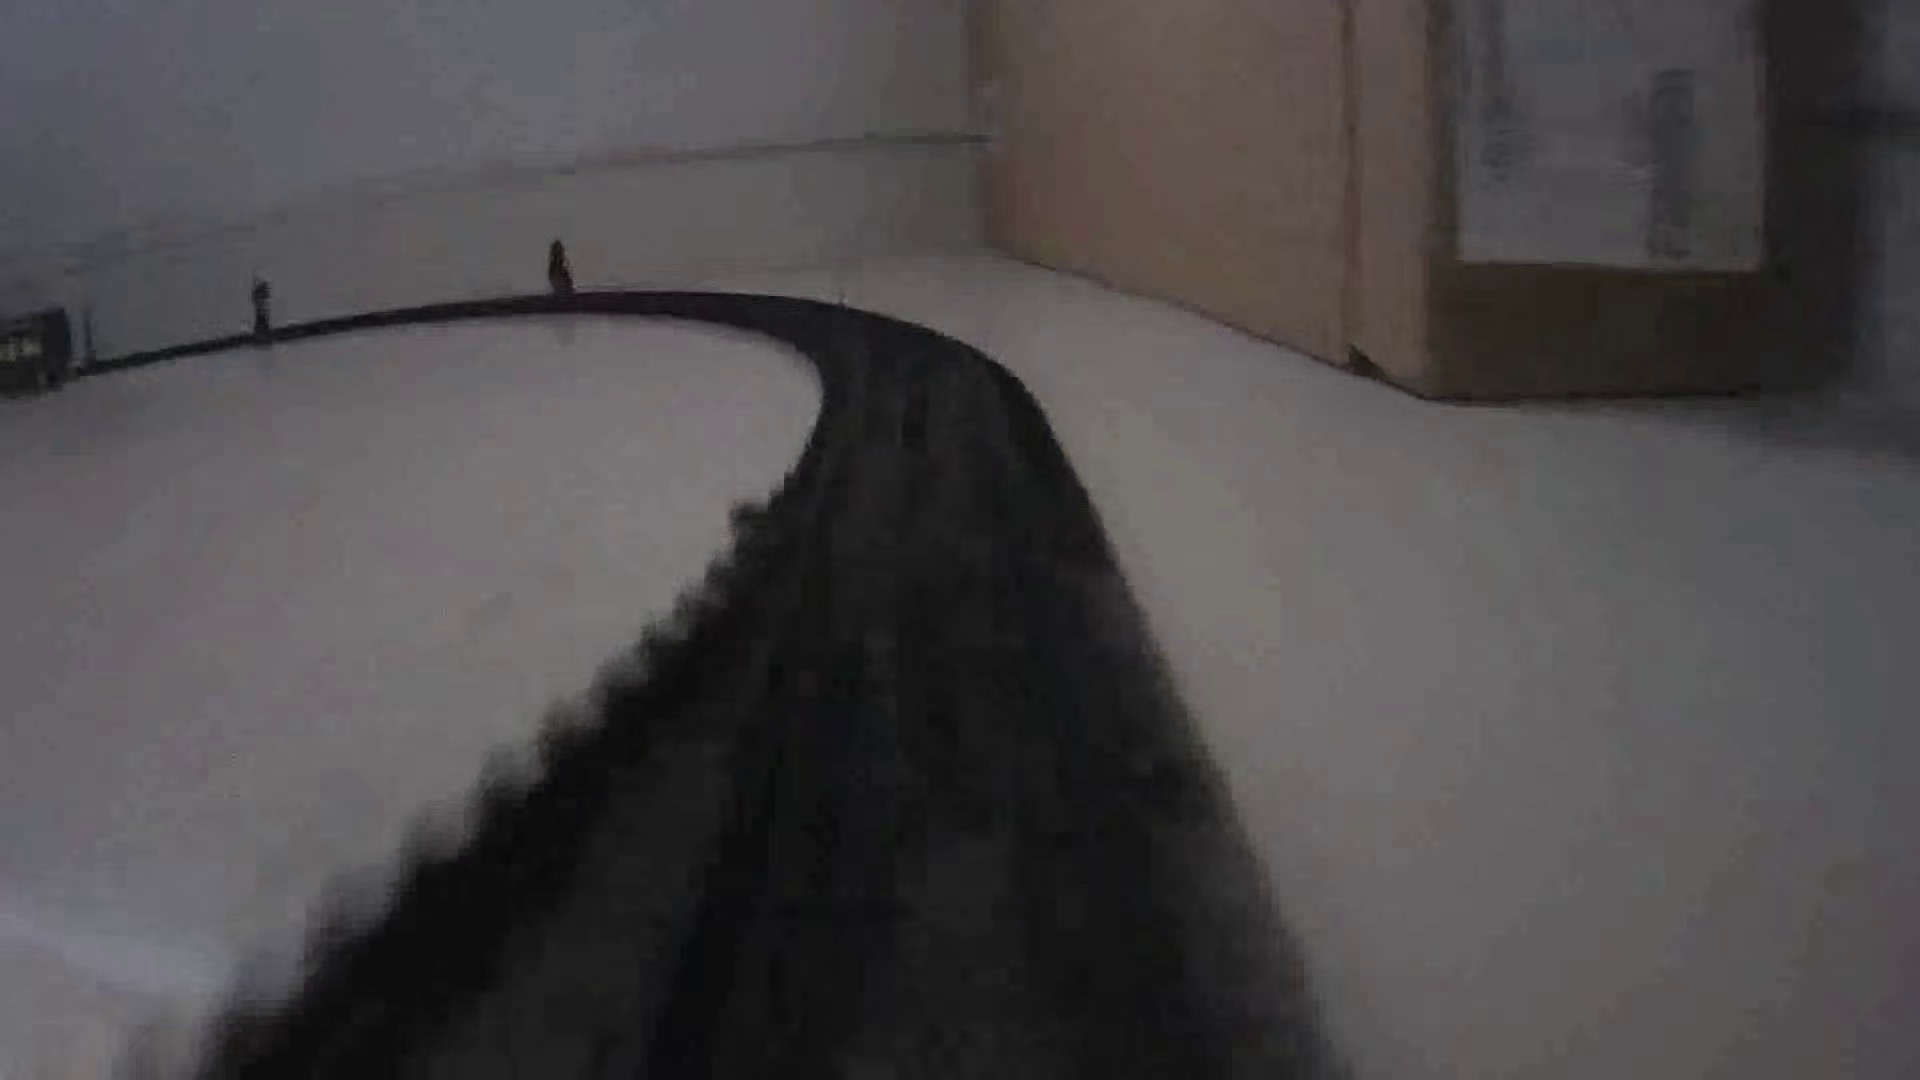people: (244, 275, 281, 340), (543, 238, 575, 303)
